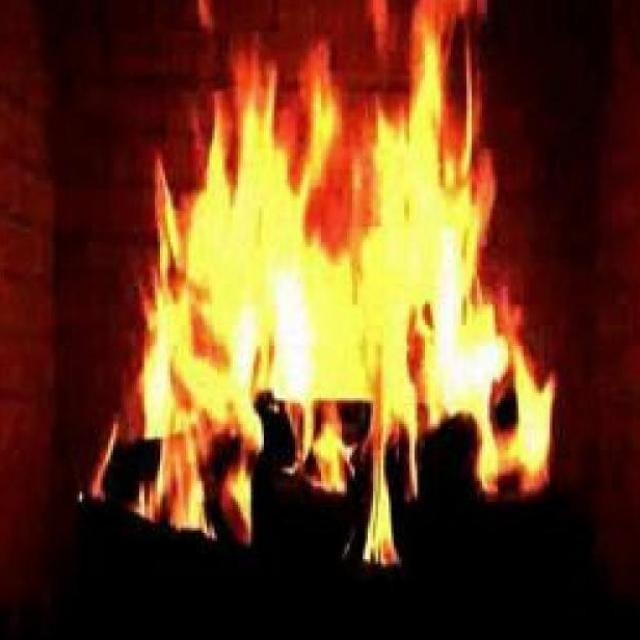smoke: (143, 13, 490, 464)
